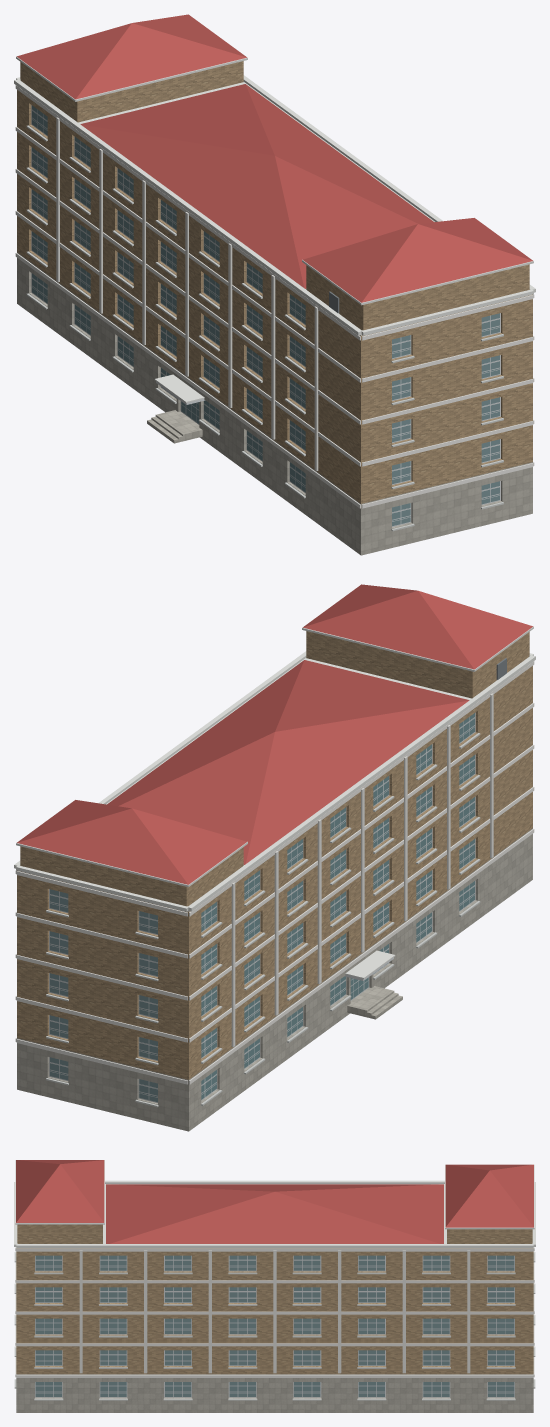
The picture shows the model from 3 angles, top to bottom: view 1: azimuth 30°, elevation 25°; view 2: azimuth 150°, elevation 25°; view 3: azimuth 270°, elevation 25°; orthographic projection. The views are drawn at different scales.
Visible parts, largest first — view 1: east__cream, east__roof, east__stone, east__band, east__glass, east__cap, east__frame, east__panel, east__sill, east__sideglass, east__stair-west; view 2: east__cream, east__roof, east__stone, east__band, east__glass, east__cap, east__frame, east__panel, east__sill, east__sideglass; view 3: east__cream, east__roof, east__sideglass, east__stone, east__band, east__frame, east__cap, east__panel, east__sill.
Part boxes in pixels (x1,y1,x2,y2): east__cream: (17,61,532,503); east__roof: (17,14,532,302); east__stone: (17,252,532,555); east__band: (15,85,534,508); east__glass: (32,105,305,492); east__cap: (14,31,535,402); east__frame: (31,105,500,526); east__panel: (56,117,318,471); east__sill: (26,125,503,531); east__sideglass: (392,313,499,526); east__stair-west: (147,414,187,443); east__cream: (17,631,532,1079); east__roof: (17,584,532,884); east__stone: (17,828,532,1131); east__band: (15,661,534,1084); east__glass: (201,713,474,1099); east__cap: (14,601,535,978); east__frame: (49,712,475,1102); east__panel: (231,693,493,1047); east__sill: (46,733,480,1107); east__sideglass: (50,889,157,1102); east__cream: (16,1224,533,1374); east__roof: (16,1160,533,1243); east__sideglass: (35,1255,514,1396); east__stone: (16,1374,533,1412); east__band: (15,1247,534,1377); east__frame: (35,1255,514,1397); east__cap: (14,1160,535,1248); east__panel: (79,1250,470,1373); east__sill: (14,1252,535,1400).
Size of the model in its own units: 17.72 by 24.11 by 52.5.
Materials: 13 (2 with a texture image).
